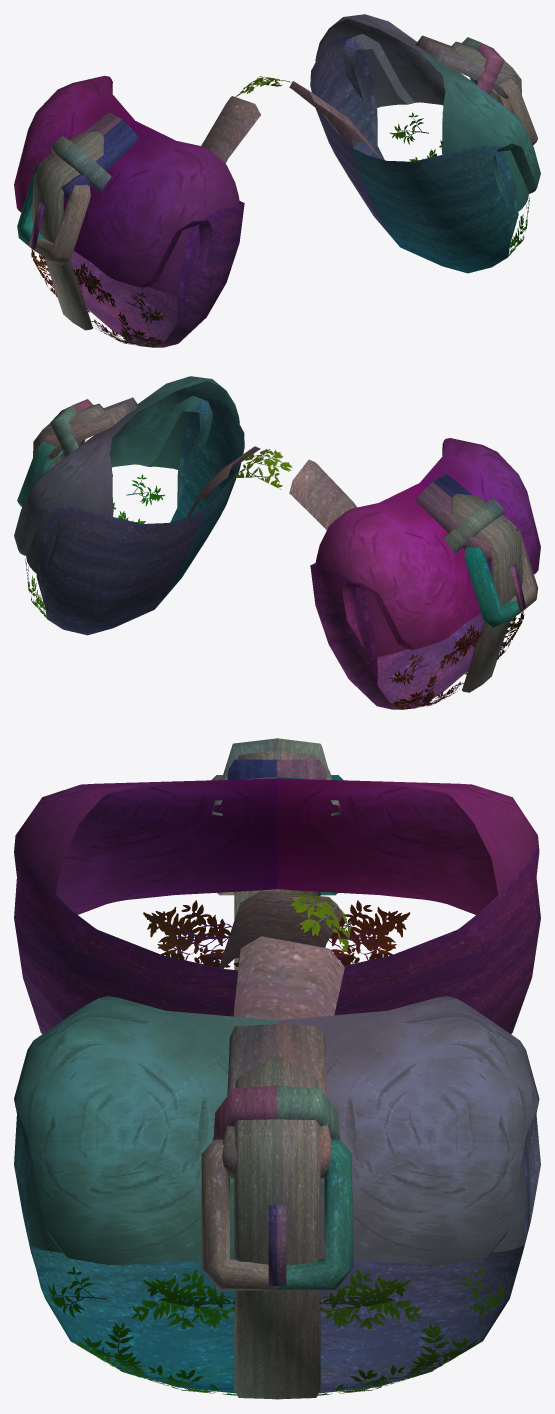
3 views of the same model, one above another, from view 1: azimuth 30°, elevation 25°; view 2: azimuth 150°, elevation 25°; view 3: azimuth 270°, elevation 25° (orthographic). The views are drawn at different scales.
Visible parts, largest first — view 1: SM_YewTree_01_half_mid_LOD0; view 2: SM_YewTree_01_half_mid_LOD0; view 3: SM_YewTree_01_half_mid_LOD0.
Part boxes in pixels (x1,y1,x2,y2): SM_YewTree_01_half_mid_LOD0: (14, 14, 540, 347); SM_YewTree_01_half_mid_LOD0: (14, 376, 540, 709); SM_YewTree_01_half_mid_LOD0: (14, 738, 540, 1399).
Bounding box in the file's own units: 1.3 × 0.5469 × 0.6914.
